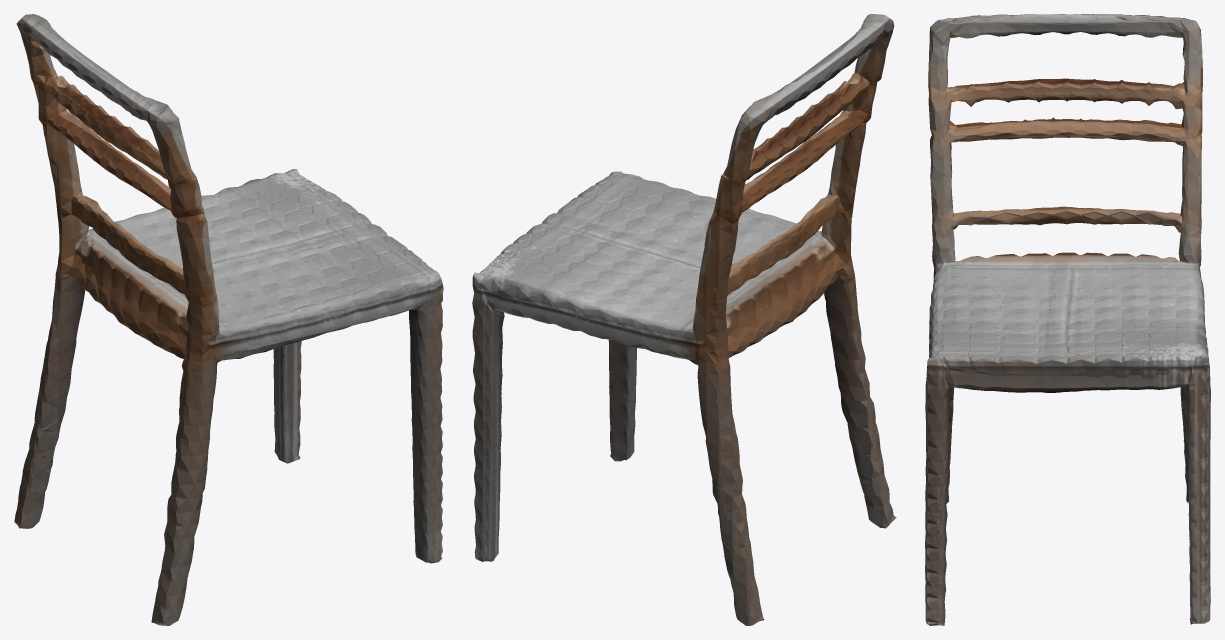
The model's file is elem_94_115_206_213_6_6.obj.
3 renders of one model, left to right at view 1: azimuth 30°, elevation 25°; view 2: azimuth 150°, elevation 25°; view 3: azimuth 270°, elevation 25°, orthographic. The views are drawn at different scales.
Bounding box in the file's own units: 0.42 × 0.6986 × 0.3732.
Materials: 1 (1 with a texture image).
